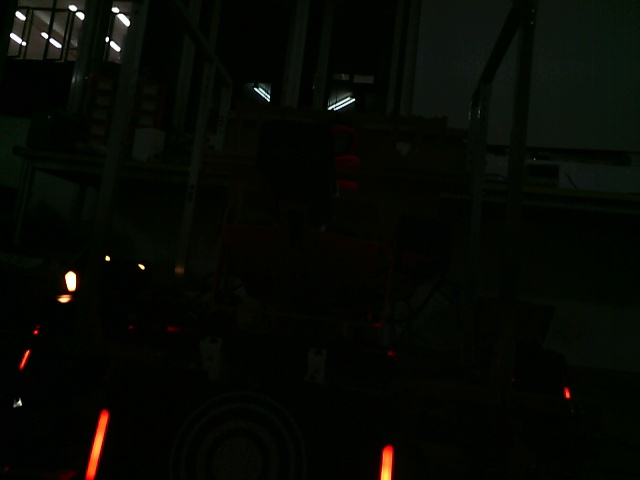lamp: (83, 409, 111, 480)
